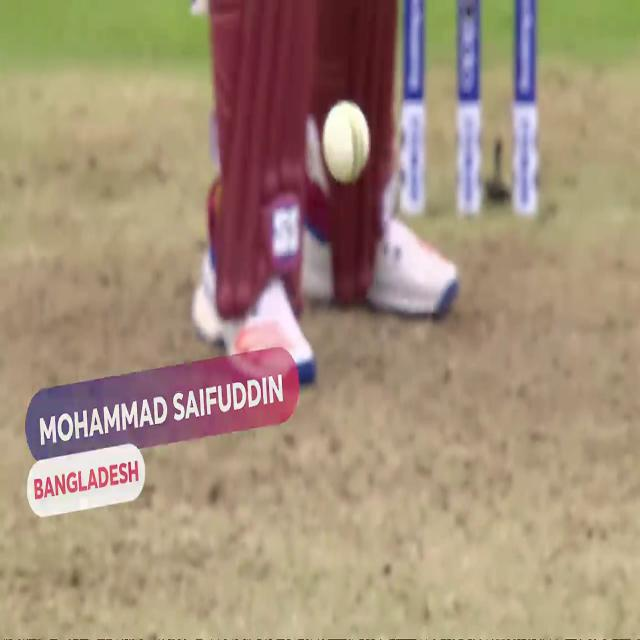ball: (320, 92, 370, 190)
